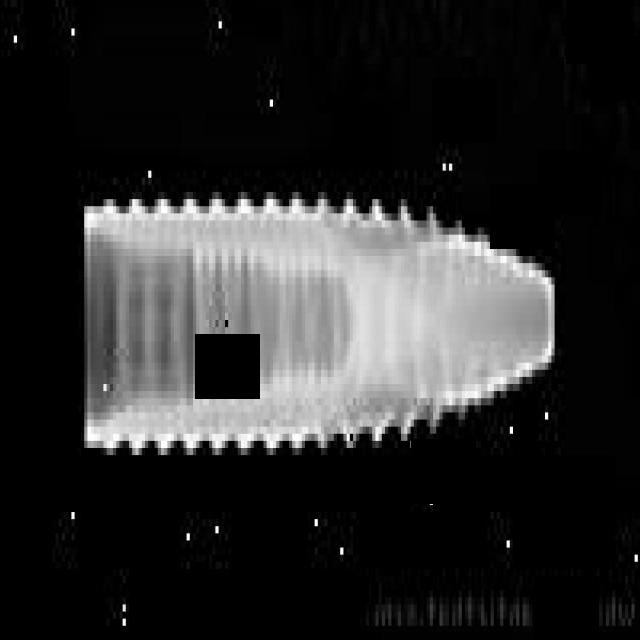Titan Implant Implant: (83, 199, 557, 455)
